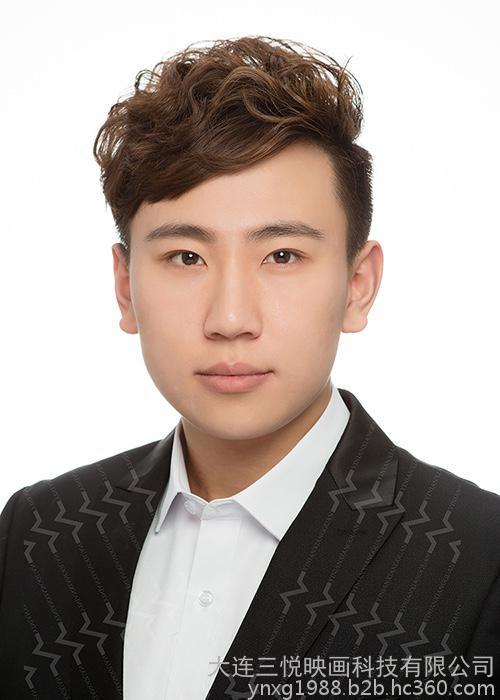unmask: (125, 176, 359, 436)
